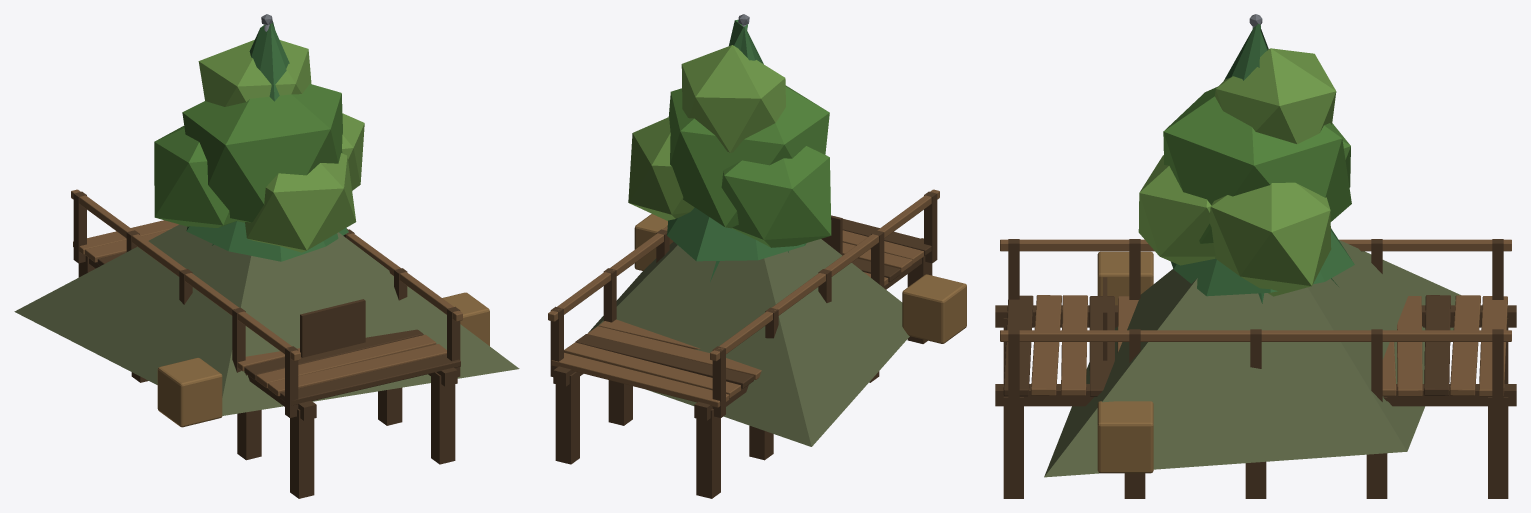
Rendered from props.glb.
The picture shows the model from 3 angles, left to right: view 1: azimuth 30°, elevation 25°; view 2: azimuth 150°, elevation 25°; view 3: azimuth 270°, elevation 25°; orthographic projection. The views are drawn at different scales.
Parts seen in each view (by area): view 1: Tent, Oak, Bridge, Pine; view 2: Tent, Oak, Bridge, Pine; view 3: Tent, Bridge, Oak, Pine.
Part boxes in pixels (x1,y1,x2,y2): Tent: [14, 224, 519, 427]; Oak: [154, 39, 364, 252]; Bridge: [71, 189, 462, 498]; Pine: [186, 21, 348, 261]; Tent: [588, 214, 966, 446]; Oak: [628, 45, 831, 247]; Bridge: [548, 189, 939, 498]; Pine: [667, 19, 806, 281]; Tent: [1044, 240, 1460, 477]; Bridge: [995, 239, 1516, 498]; Oak: [1138, 48, 1351, 296]; Pine: [1170, 23, 1354, 303].
Size of the model in its own units: 4.55 by 5.23 by 5.6.
